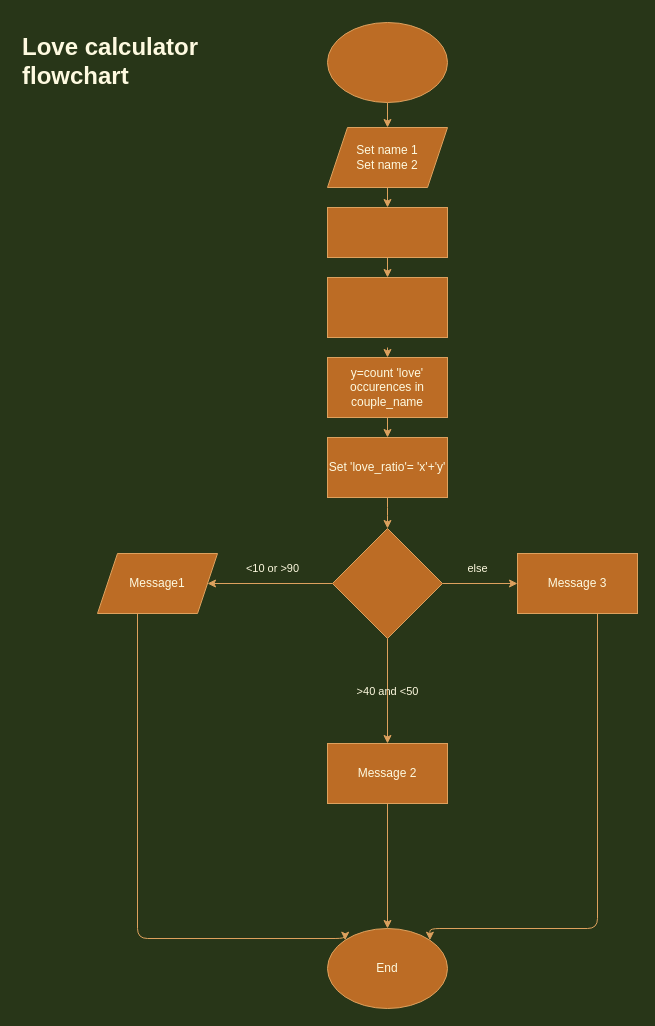
Image size: 655x1026. Some labels were removed from this diagram. The shapes that lost their labels are listed below. From the top down, each one's centre as x and y in pixels, then its label:
the point at 387,62: Start
the point at 387,232: Set couple_name= name1+name2 in lower case
the point at 387,307: x=count 'true' occurences in couple_name
the point at 387,583: Evaluate int(love_ratio)
